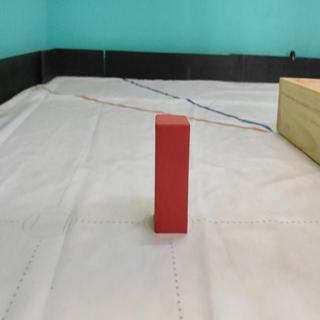redbox: (153, 113, 191, 233)
